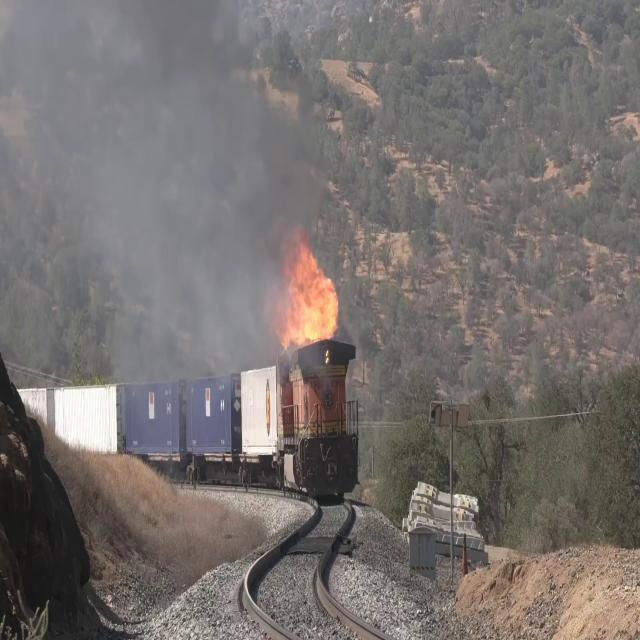Fire: (282, 230, 337, 350)
Smoke: (125, 77, 255, 280)
